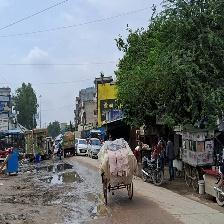Rickshaw: (94, 137, 140, 205)
Road: (110, 177, 222, 223), (69, 157, 101, 197)
